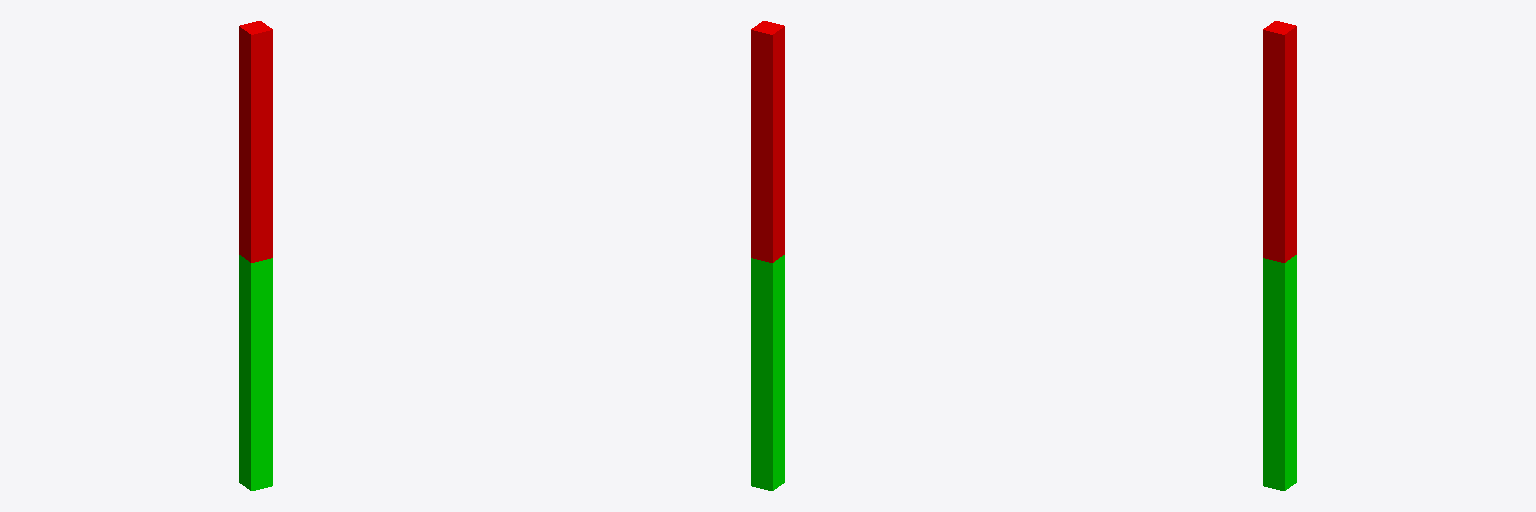
robot.urdf — pendulum:
<?xml version="1.0" encoding="utf-8"?>
<robot name="pendulum">
	<material name="red">
		<color rgba="1 0 0 1"/>
	</material>
	<material name="green">
		<color rgba="0 1 0 1"/>
	</material>

	<link name="root">
	</link>

	<link name="segment1">
		<visual>
			<geometry>
				<box size="0.1 0.1 1"/>
			</geometry>
			<origin rpy="0 0 0" xyz="0 0 -0.5"/>
			<material name="red"/>
		</visual>
	</link>

	<link name="segment2">
		<visual>
			<geometry>
				<box size="0.1 0.1 1"/>
			</geometry>
			<origin rpy="0 0 0" xyz="0 0 -0.5"/>
			<material name="green"/>
		</visual>
	</link>

	<joint name="roottoseg1" type="revolute">
		<axis xyz="1 0 0"/>
		<parent link="root"/>
		<child link="segment1"/>
	</joint>

	<joint name="seg1toseg2" type="revolute">
		<origin xyz="0 0 -1"/>
		<axis xyz="1 0 0"/>
		<parent link="segment1"/>
		<child link="segment2"/>
	</joint>

</robot>

--- Facts derived from the render (not from the file) ---
The picture shows the robot from 3 angles, left to right: view 1: azimuth 30°, elevation 25°; view 2: azimuth 150°, elevation 25°; view 3: azimuth 330°, elevation 25°; orthographic projection.
Robot: pendulum — 3 links, 2 joints (2 revolute); root link root; default pose: all joints at 0.
Links seen in each view (by area): view 1: segment1, segment2; view 2: segment1, segment2; view 3: segment1, segment2.
Boxes of the visible links, <box> form: segment1: <box>239,21,272,262</box>; segment2: <box>239,255,272,490</box>; segment1: <box>751,21,784,262</box>; segment2: <box>751,255,784,490</box>; segment1: <box>1263,21,1296,262</box>; segment2: <box>1263,255,1296,490</box>.
Bounding box of the posed robot: 0.1 × 0.1 × 2 m (x, y, z).
Geometry: primitives only (box / cylinder / sphere), no mesh files.